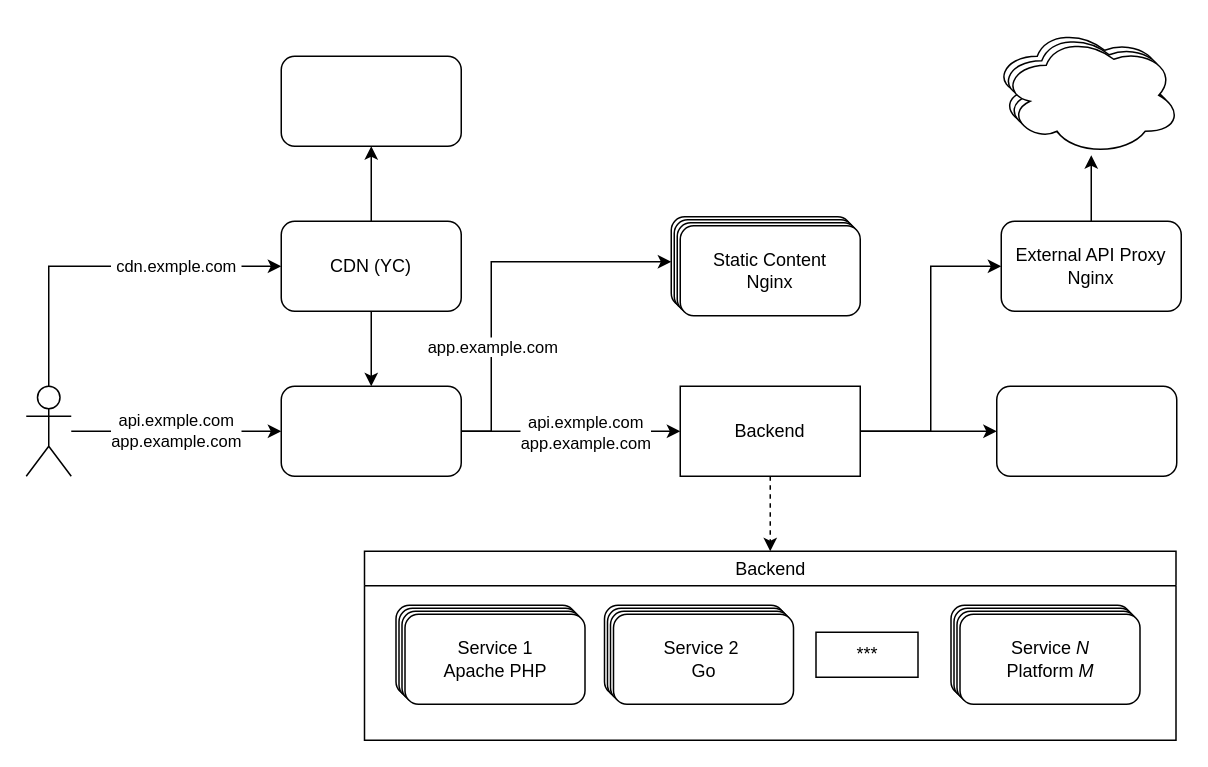
The diagram is 1208 pixels wide and 767 high, and some of its shapes have lost their labels. The shapes that lost their labels are listed below. From the top down, each one's box as (x1, y1, x2, y2) in pixels, then its label:
(280, 55, 461, 146): S3 (YC)
(1000, 34, 1181, 155): External API's
(25, 385, 71, 476): User
(280, 385, 461, 476): Application Load Balancer (YC)
(995, 385, 1177, 476): DB Managed Service (YC)
